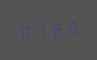eight: (48, 20, 62, 38)
seven: (33, 21, 47, 40)
zero: (18, 22, 32, 41), (63, 18, 77, 37)
